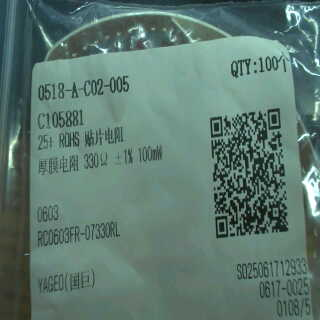330R: (83, 150, 112, 171)
